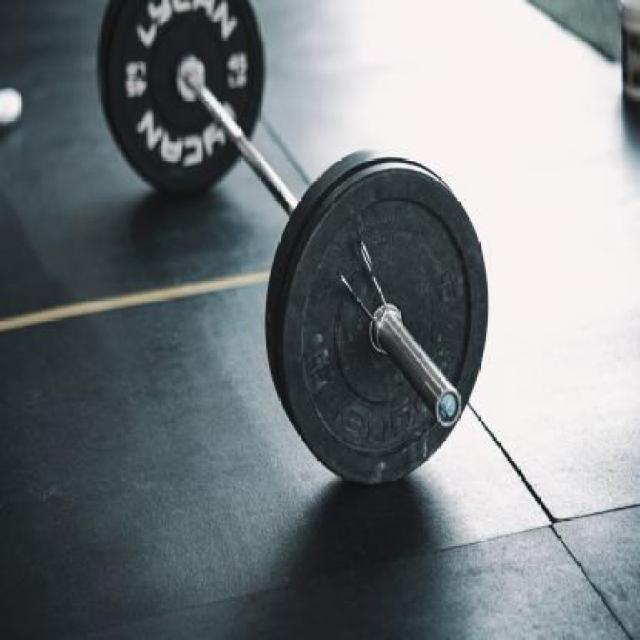barbell: (265, 160, 495, 492)
